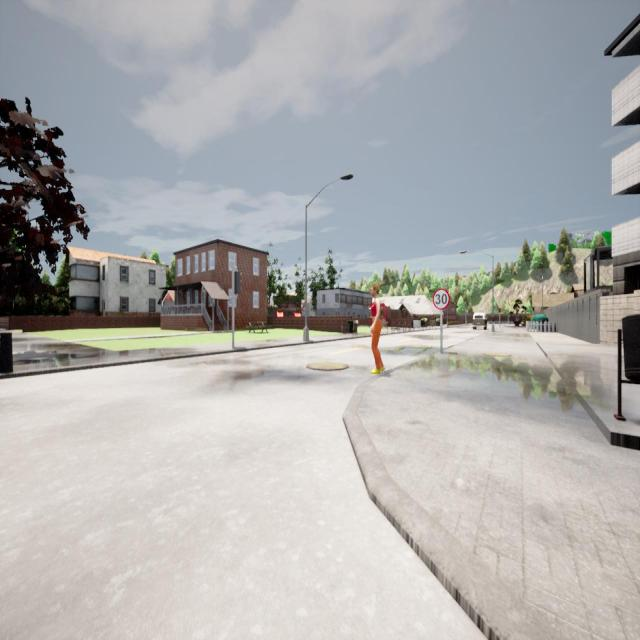Pedestrian: (370, 283, 384, 374)
Traffic_Signs: (432, 288, 450, 310), (472, 312, 488, 330)
traffic_light: (234, 272, 240, 294), (498, 306, 501, 312)
